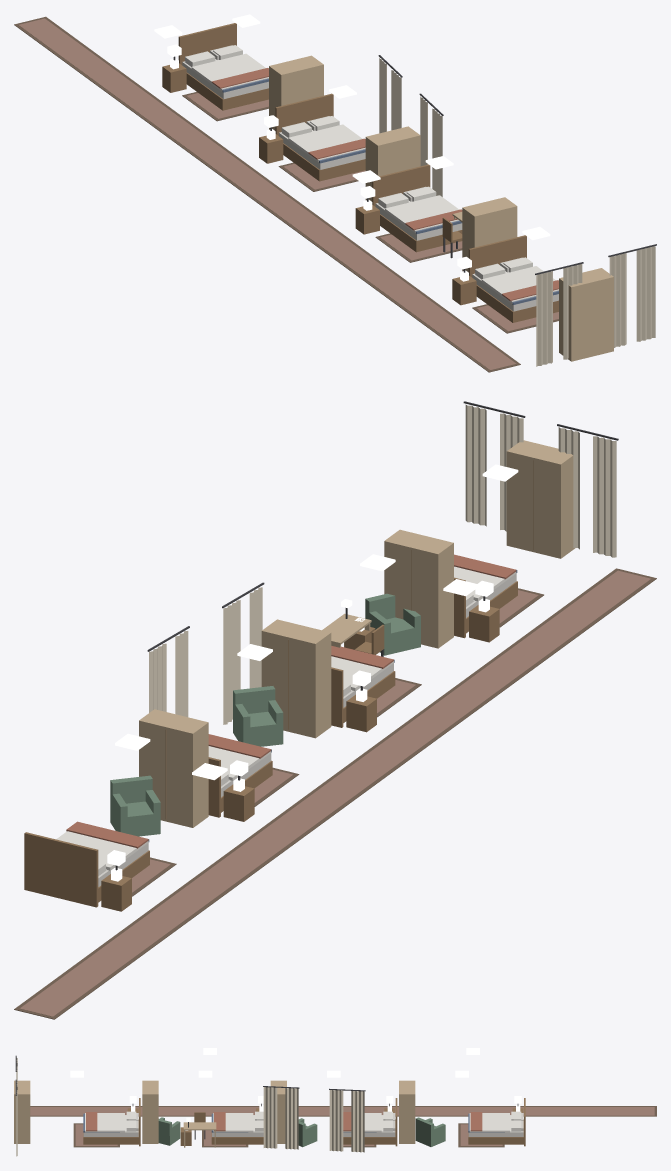
The model's file is fine-s1.glb.
The picture shows the model from 3 angles, top to bottom: view 1: azimuth 30°, elevation 25°; view 2: azimuth 150°, elevation 25°; view 3: azimuth 270°, elevation 25°; orthographic projection. The views are drawn at different scales.
Visible parts, largest first — view 1: soft-s1, dresser.003, bed-frame.001, bed-frame.000, bed-frame.002, bed-frame.003, dresser.002, dresser.000, dresser.001, nightstand.002, nightstand.001, nightstand.003 (+1 smaller); view 2: soft-s1, dresser.003, dresser.001, dresser.000, dresser.002, bed-frame.000, lounge-chair.000, lounge-chair.001, lounge-chair.002, bed-frame.002, bed-frame.001, bed-frame.003 (+5 smaller); view 3: soft-s1, dresser.002, dresser.000, dresser.003, bed-frame.003, bed-frame.000, bed-frame.002, bed-frame.001, lounge-chair.000, dresser.001, lounge-chair.002, lounge-chair.001 (+2 smaller).
Boxes of the visible parts, <box> form: soft-s1: <box>14,16,656,372</box>; dresser.003: <box>559,268,613,361</box>; bed-frame.001: <box>275,93,365,181</box>; bed-frame.000: <box>178,23,268,110</box>; bed-frame.002: <box>372,164,462,252</box>; bed-frame.003: <box>468,235,558,322</box>; dresser.002: <box>462,197,517,272</box>; dresser.000: <box>269,55,323,130</box>; dresser.001: <box>365,126,420,201</box>; nightstand.002: <box>355,200,379,234</box>; nightstand.001: <box>259,129,283,163</box>; nightstand.003: <box>452,270,476,305</box>; soft-s1: <box>14,401,656,1019</box>; dresser.003: <box>506,440,575,558</box>; dresser.001: <box>261,619,331,738</box>; dresser.000: <box>139,709,208,827</box>; dresser.002: <box>384,529,453,648</box>; bed-frame.000: <box>24,832,149,907</box>; lounge-chair.000: <box>110,775,160,836</box>; lounge-chair.001: <box>233,686,283,746</box>; lounge-chair.002: <box>365,593,420,655</box>; bed-frame.002: <box>331,659,395,727</box>; bed-frame.001: <box>208,749,272,817</box>; bed-frame.003: <box>454,570,517,638</box>; soft-s1: <box>15,1055,656,1156</box>; dresser.002: <box>142,1080,158,1143</box>; dresser.000: <box>399,1080,415,1143</box>; dresser.003: <box>14,1080,30,1143</box>; bed-frame.003: <box>83,1098,140,1146</box>; bed-frame.000: <box>468,1098,525,1146</box>; bed-frame.002: <box>211,1113,263,1144</box>; bed-frame.001: <box>343,1098,397,1146</box>; lounge-chair.000: <box>415,1117,445,1146</box>; dresser.001: <box>270,1080,286,1143</box>; lounge-chair.002: <box>158,1117,180,1145</box>; lounge-chair.001: <box>298,1118,317,1147</box>.
Bounding box in the file's own units: 4.5 × 2.56 × 23.6.
